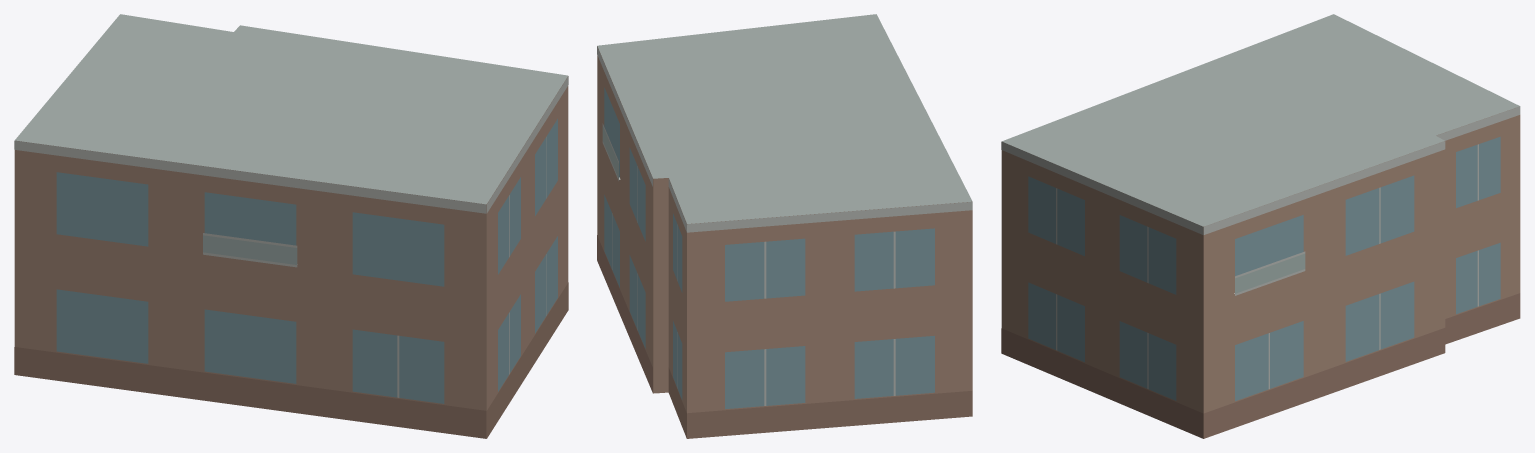
Rendered from survey-upis-32983181.glb.
The picture shows the model from 3 angles, left to right: view 1: azimuth 30°, elevation 25°; view 2: azimuth 150°, elevation 25°; view 3: azimuth 270°, elevation 25°; orthographic projection. The views are drawn at different scales.
Visible parts, largest first — view 1: survey-upis-32983181.tmp; view 2: survey-upis-32983181.tmp; view 3: survey-upis-32983181.tmp.
Part boxes in pixels (left/top/right/bottom): survey-upis-32983181.tmp: left=14, top=14, right=568, bottom=438; survey-upis-32983181.tmp: left=597, top=14, right=972, bottom=438; survey-upis-32983181.tmp: left=1001, top=14, right=1520, bottom=438.
Size of the model in its own units: 13.13 by 6.1 by 13.53.
